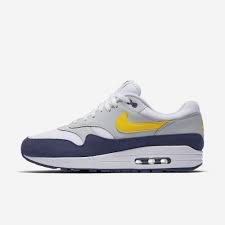nike: (115, 110, 164, 135)
